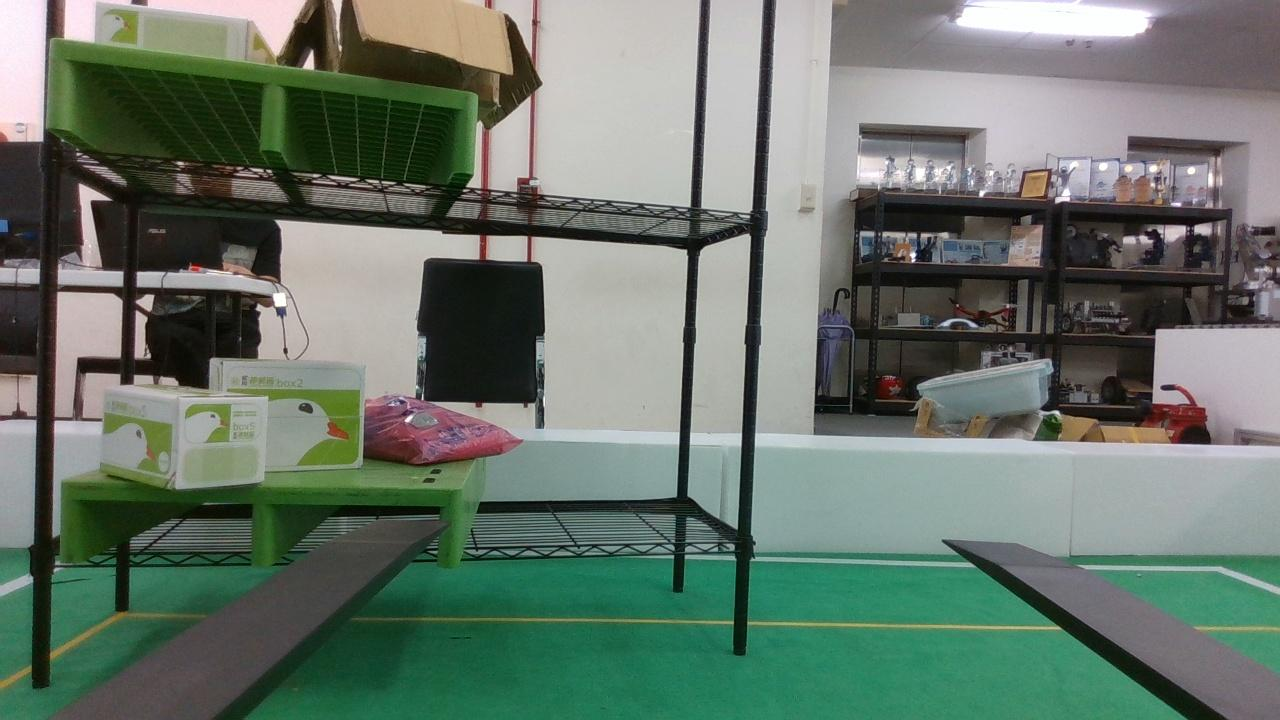Pallet: (44, 41, 489, 181), (55, 483, 468, 571)
